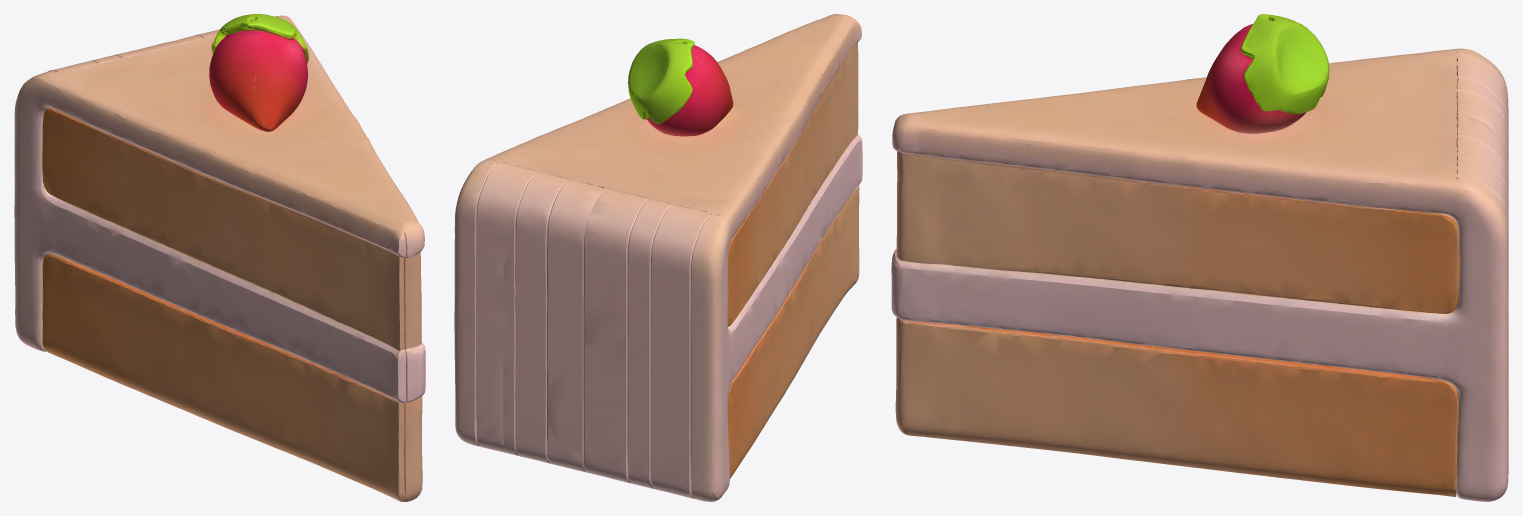
File: shortcake.glb
3 renders of one model, left to right at view 1: azimuth 30°, elevation 25°; view 2: azimuth 150°, elevation 25°; view 3: azimuth 270°, elevation 25°, orthographic. The views are drawn at different scales.
Visible parts, largest first — view 1: model; view 2: model; view 3: model.
Boxes of the visible parts, x1,y1,x2,y2 form: model: [14, 14, 425, 501]; model: [454, 14, 862, 501]; model: [891, 14, 1508, 501].
Size of the model in its own units: 0.5739 by 0.7462 by 1.
Materials: 1 (1 with a texture image).
